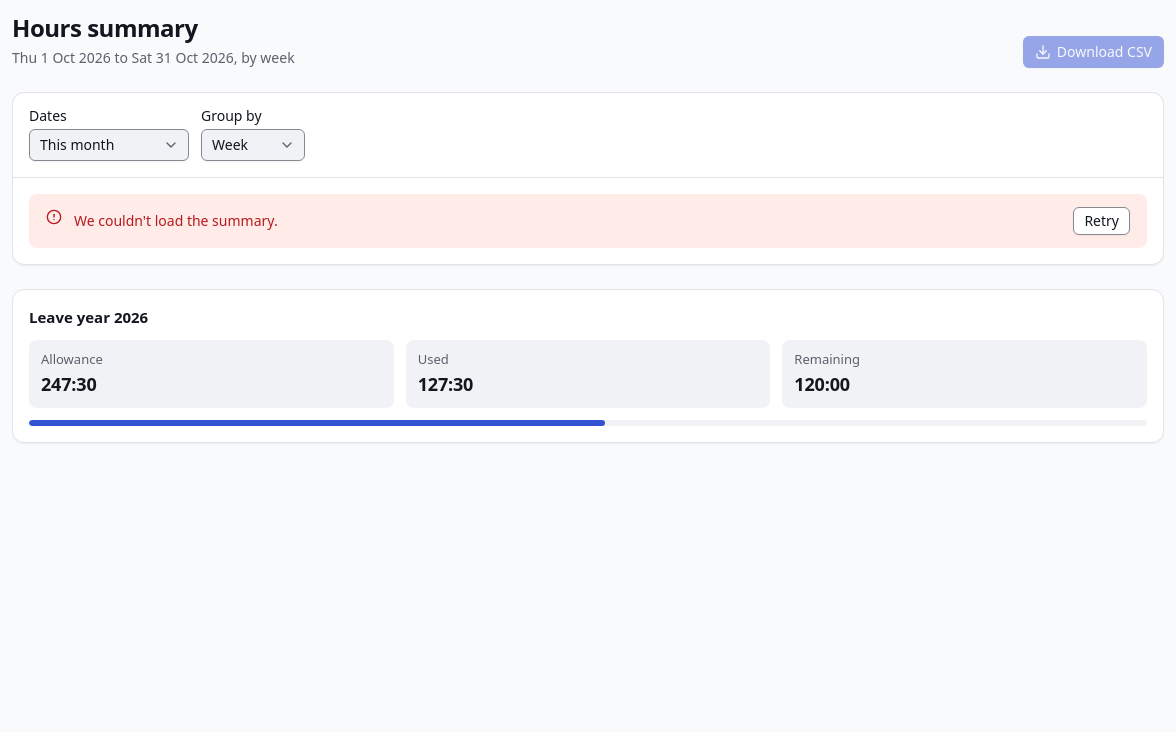
HoursSummary › offers Retry when the summary fails to load
Expected: the text "We couldn't load the summary." is shown, x1=74 y1=211 x2=278 y2=230
Click the button "Retry" at coordinates (1102, 221), box x1=1073 y1=207 x2=1130 y2=235
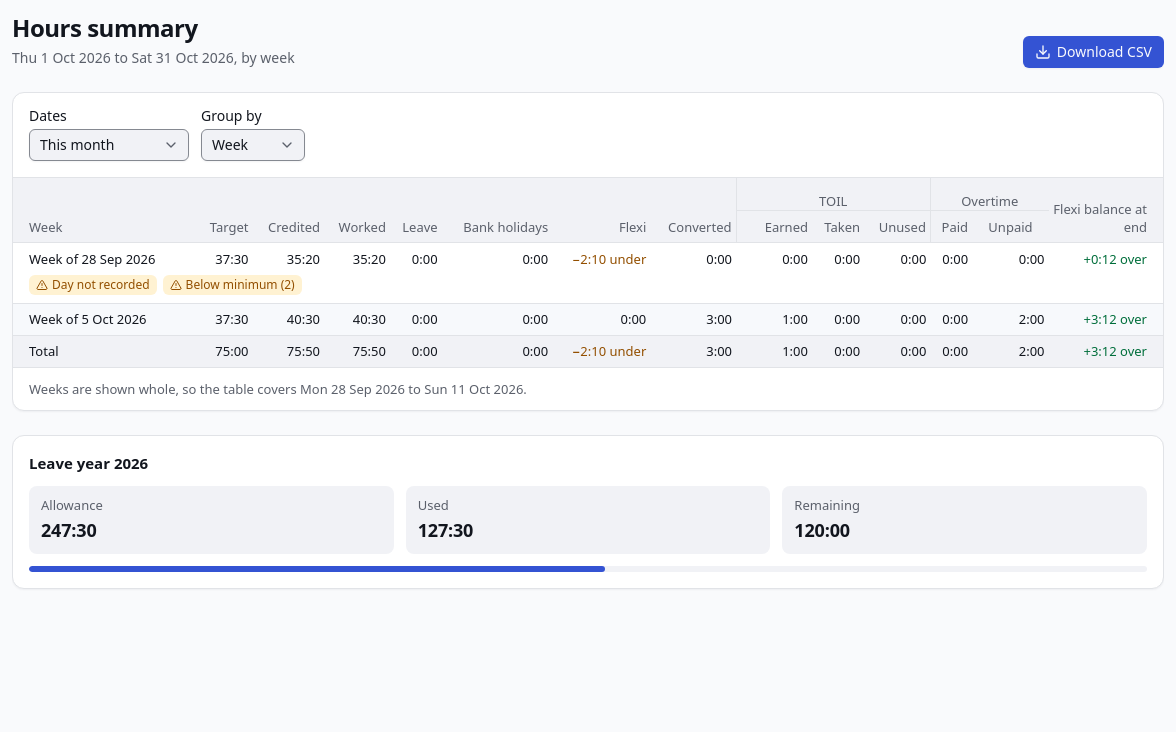
Expected: the table is shown, x1=13 y1=178 x2=1163 y2=367
